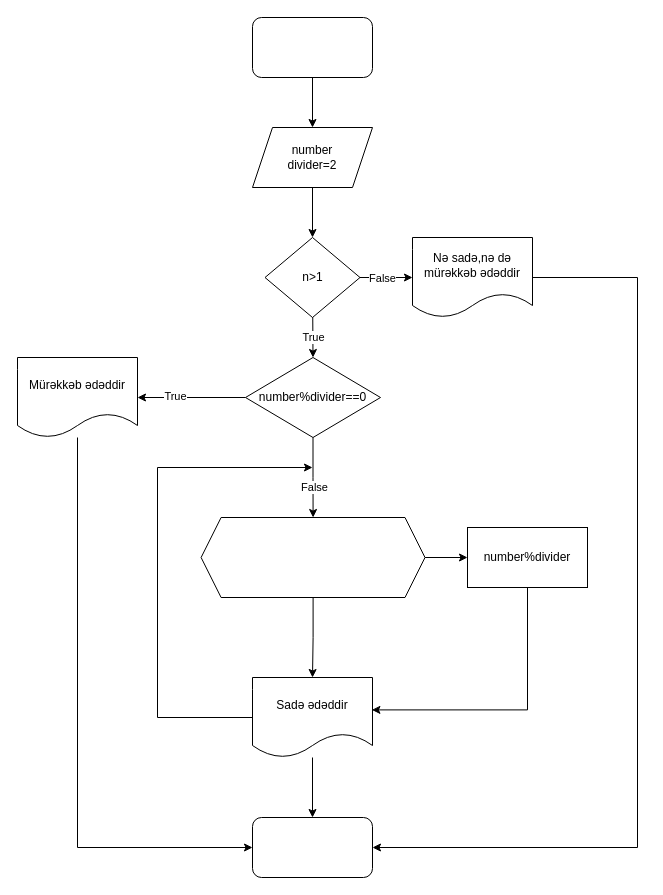
Image size: 663x895. Some labels were removed from this diagram. Each missing label, with the centre of its shape:
"divider=2,divider<n,divider++,divider++" goes at point 312,557.
"end" goes at point 312,847.
"Start" goes at point 312,47.
